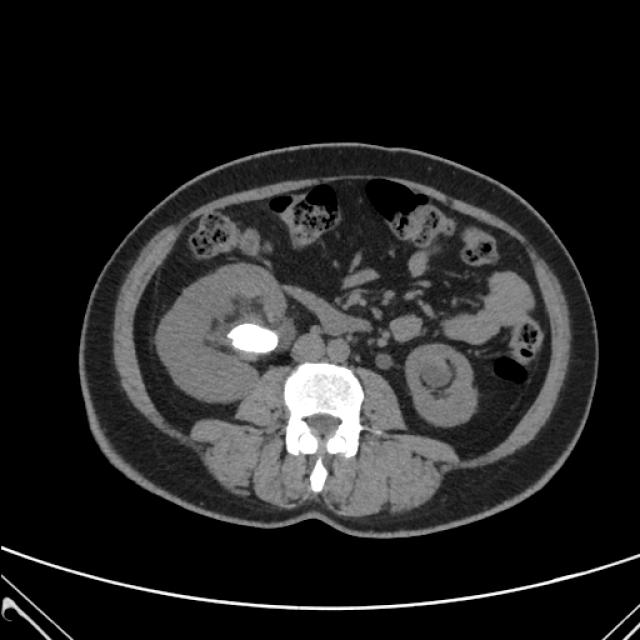kidney: (153, 255, 285, 404), (402, 339, 484, 436)
stone: (225, 320, 283, 358)
